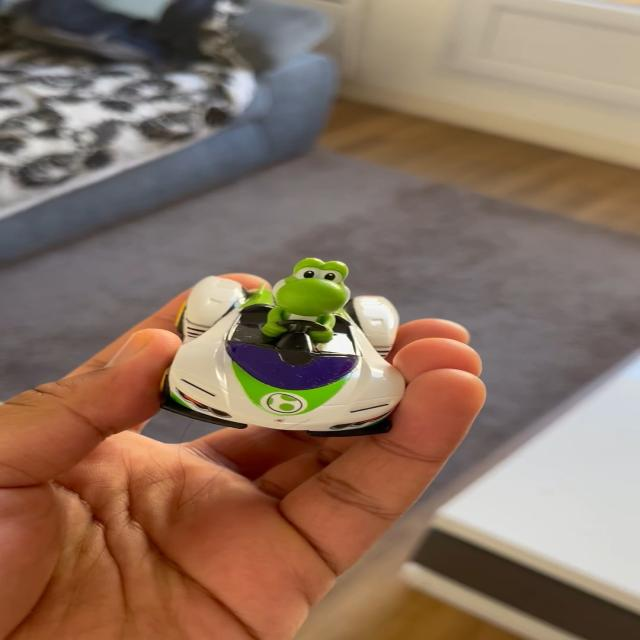yoshi: (147, 242, 428, 437)
